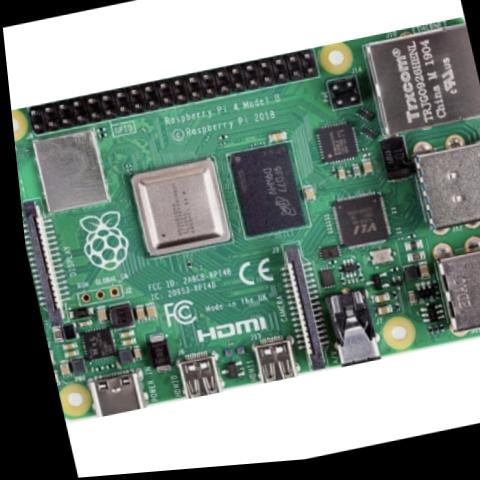Raspberry-Pi-4-Model-B: (4, 23, 480, 426)
